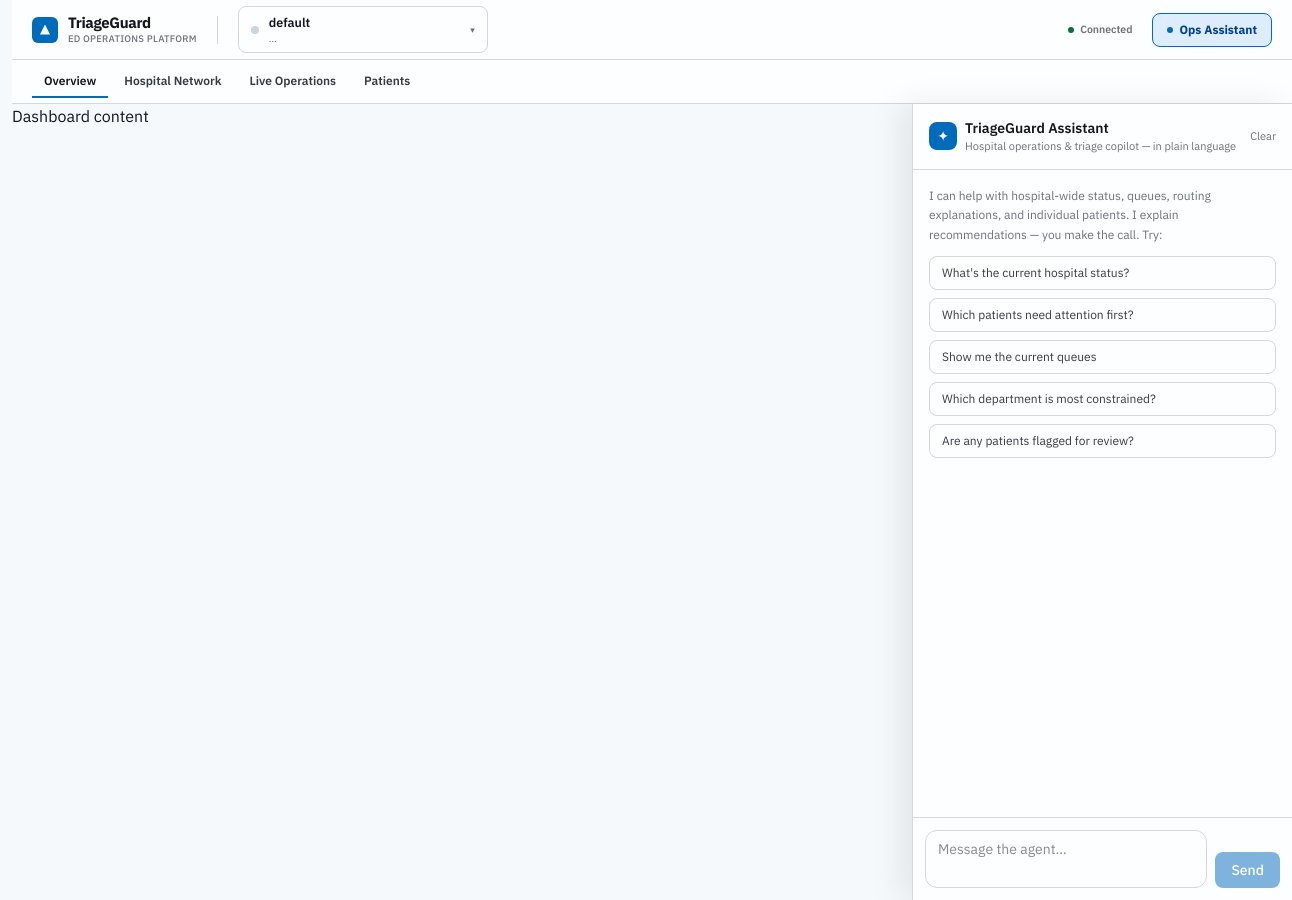
Test: Layout › toggles the assistant panel closed and back open
The image size is (1292, 900).
Click the button "Ops Assistant" at (1212, 30), box [1152,12,1272,46]
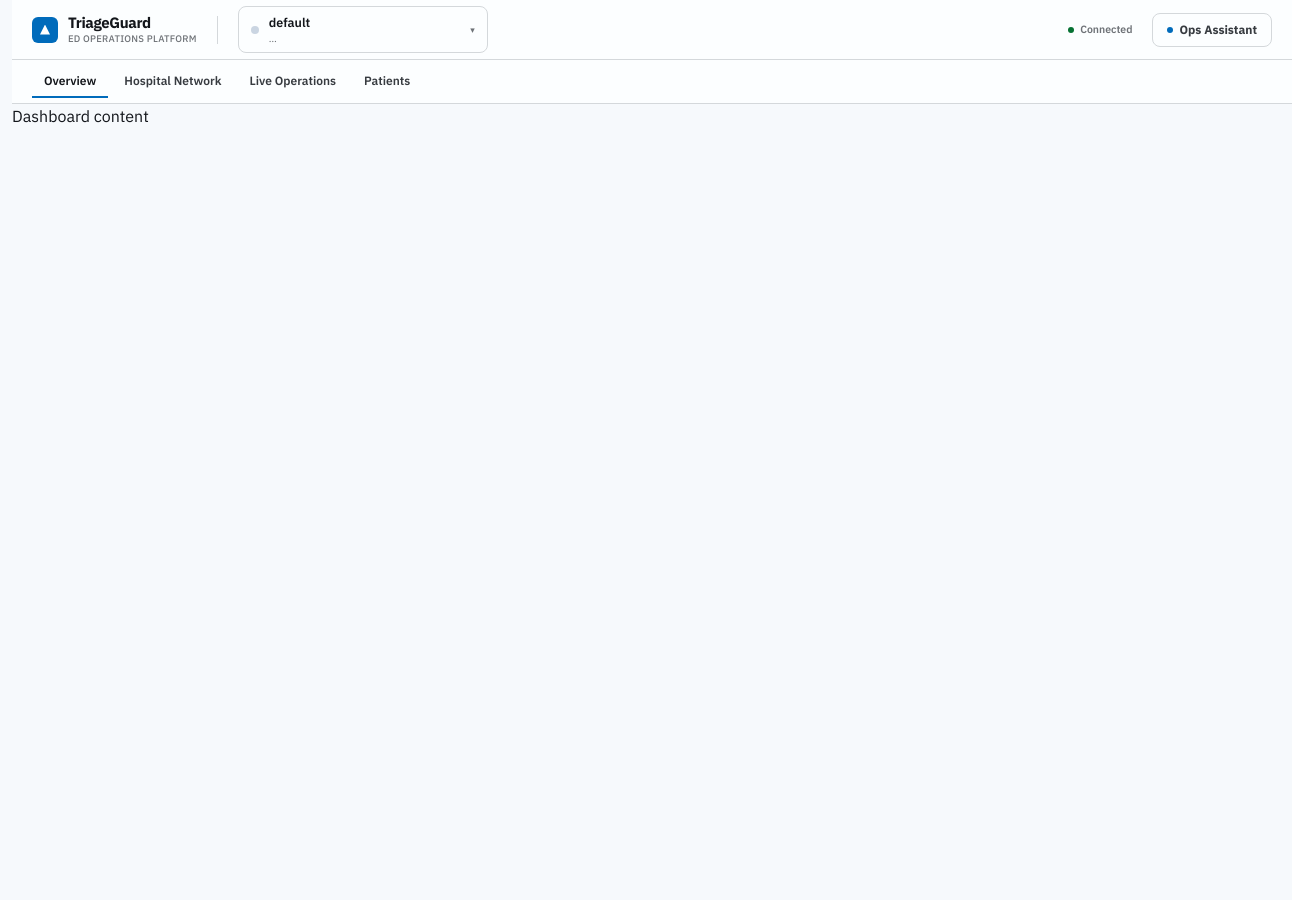
Expected: the text "TriageGuard Assistant" is gone
Click the button "Ops Assistant" at (1212, 30), box [1152,12,1272,46]
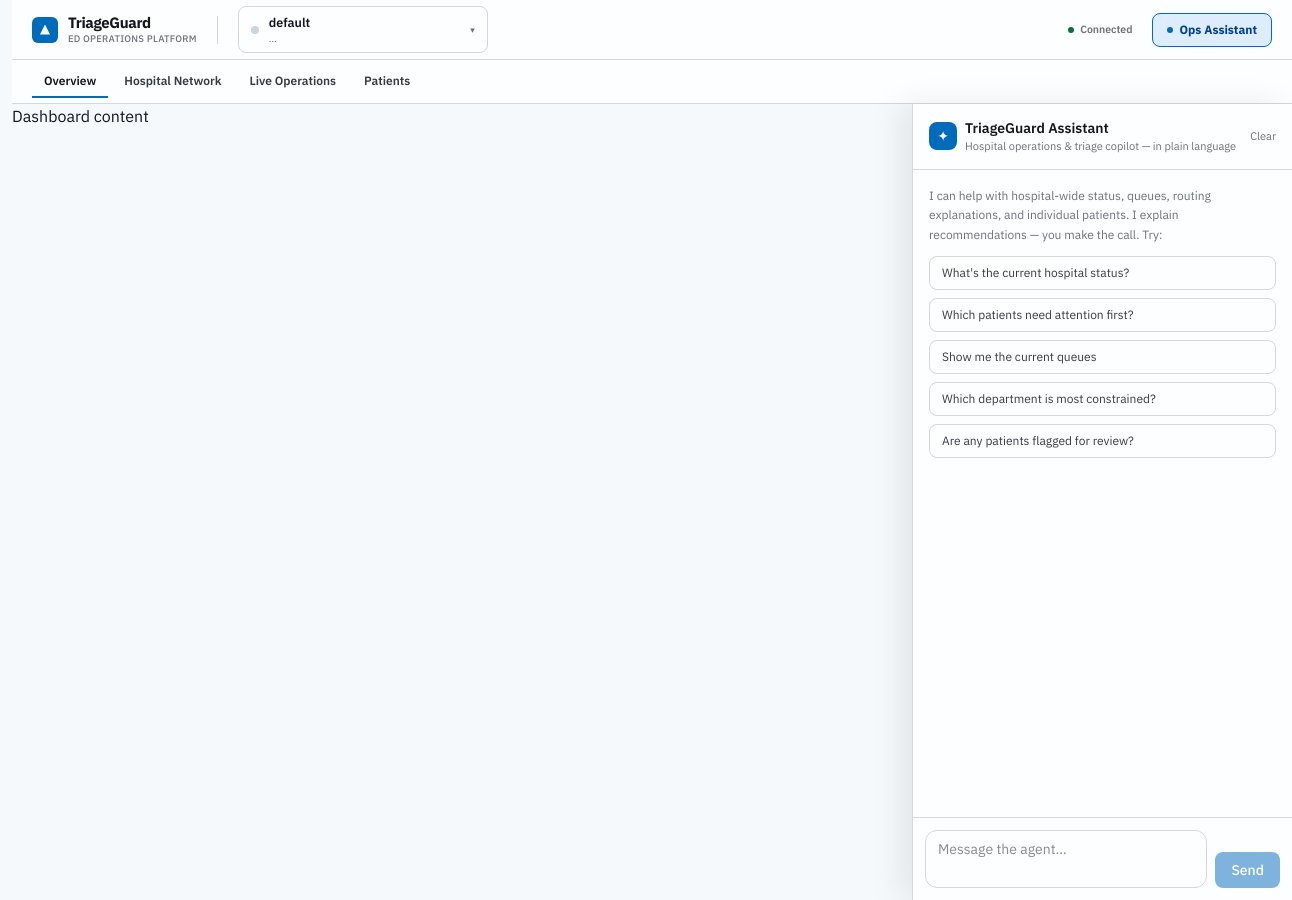
Expected: the text "TriageGuard Assistant" is shown, [965,119,1109,137]
